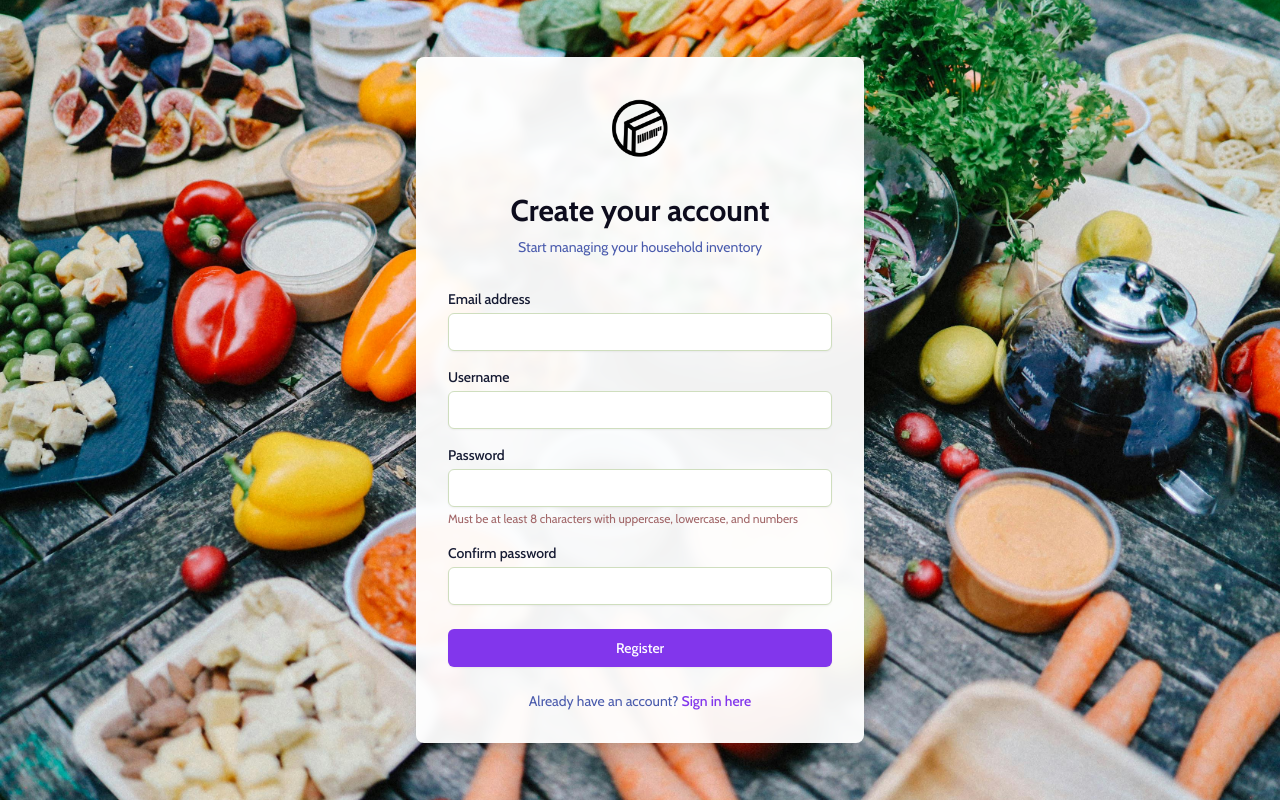
Test: Register page › rejects a too-short password
In the field labelled "Email address": (640, 332) [448,313,832,351], type "a@b.c"
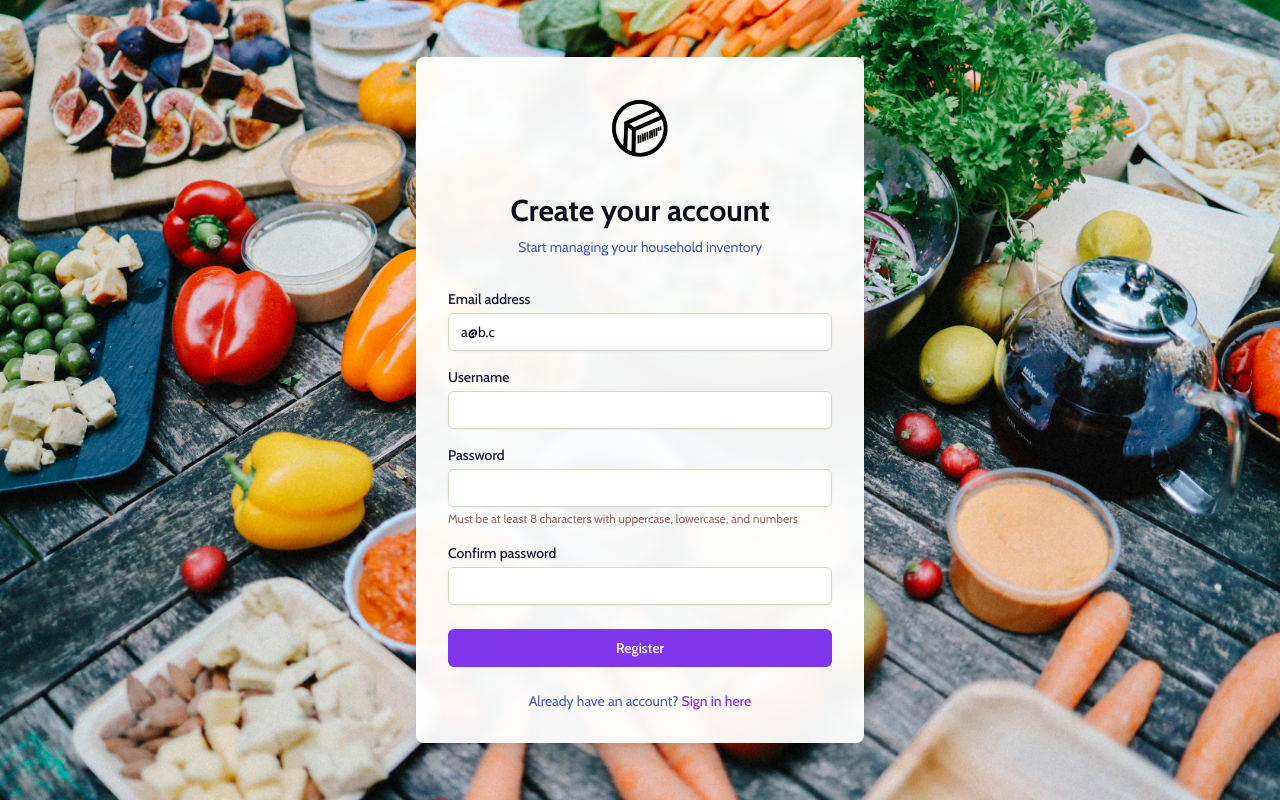
In the field labelled "Username": (640, 410) [448,391,832,429], type "alice"
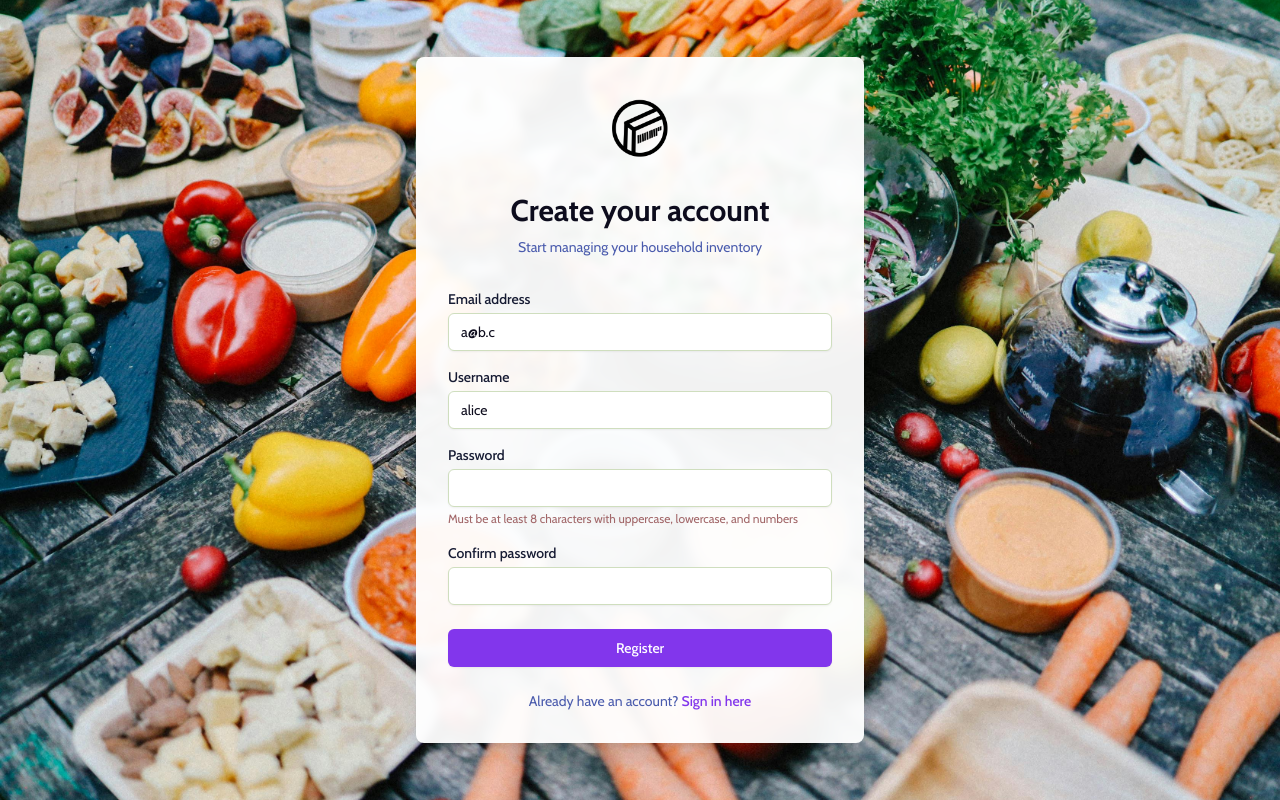
In the password field labelled "Password": (640, 488) [448,469,832,507], type "short"
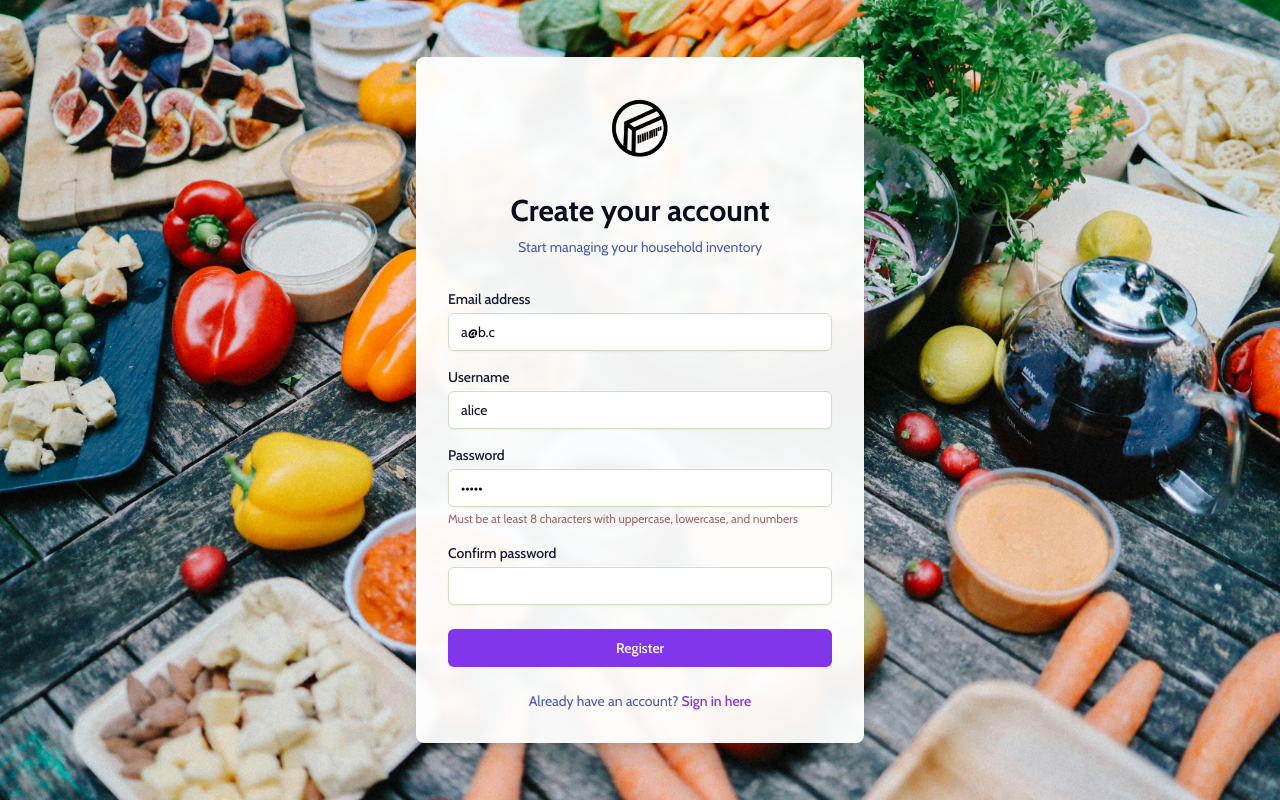
In the password field labelled "Confirm password": (640, 586) [448,567,832,605], type "short"
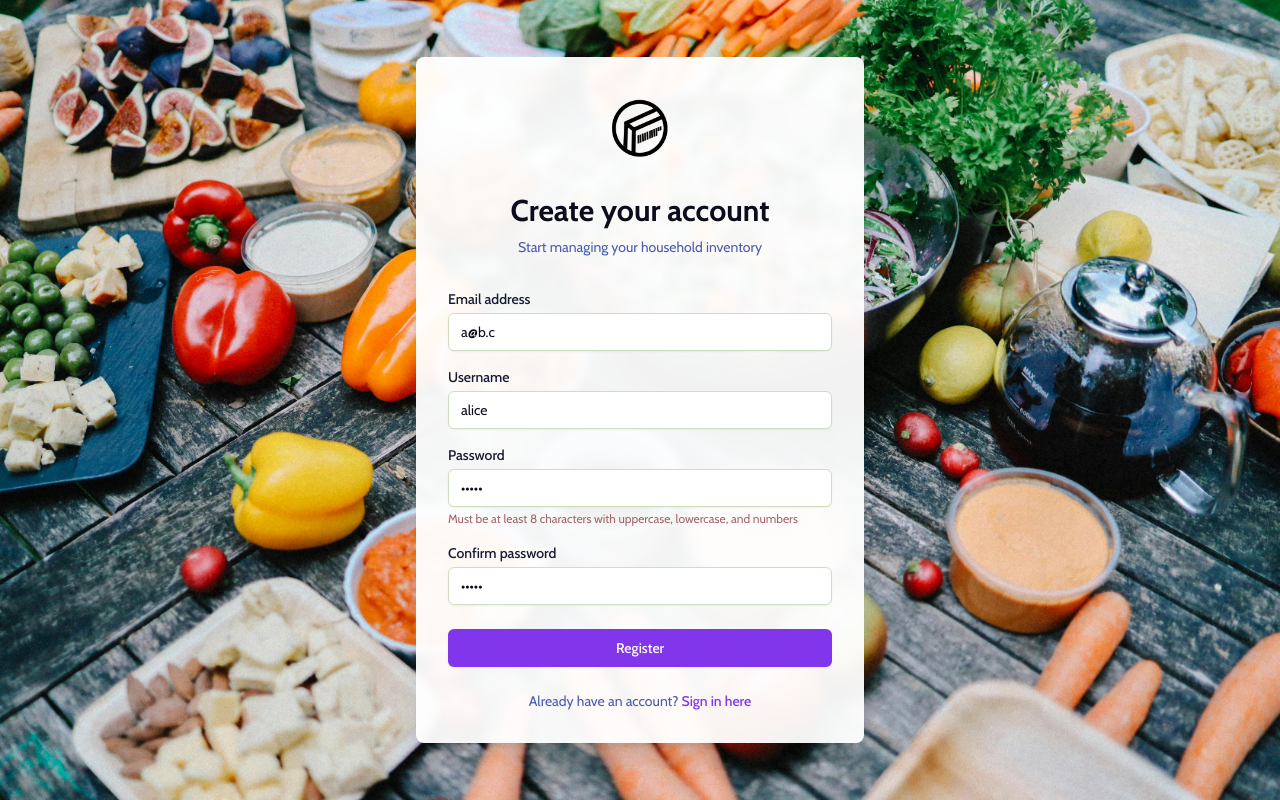
Click the button "Register": click(640, 648) [448,629,832,667]
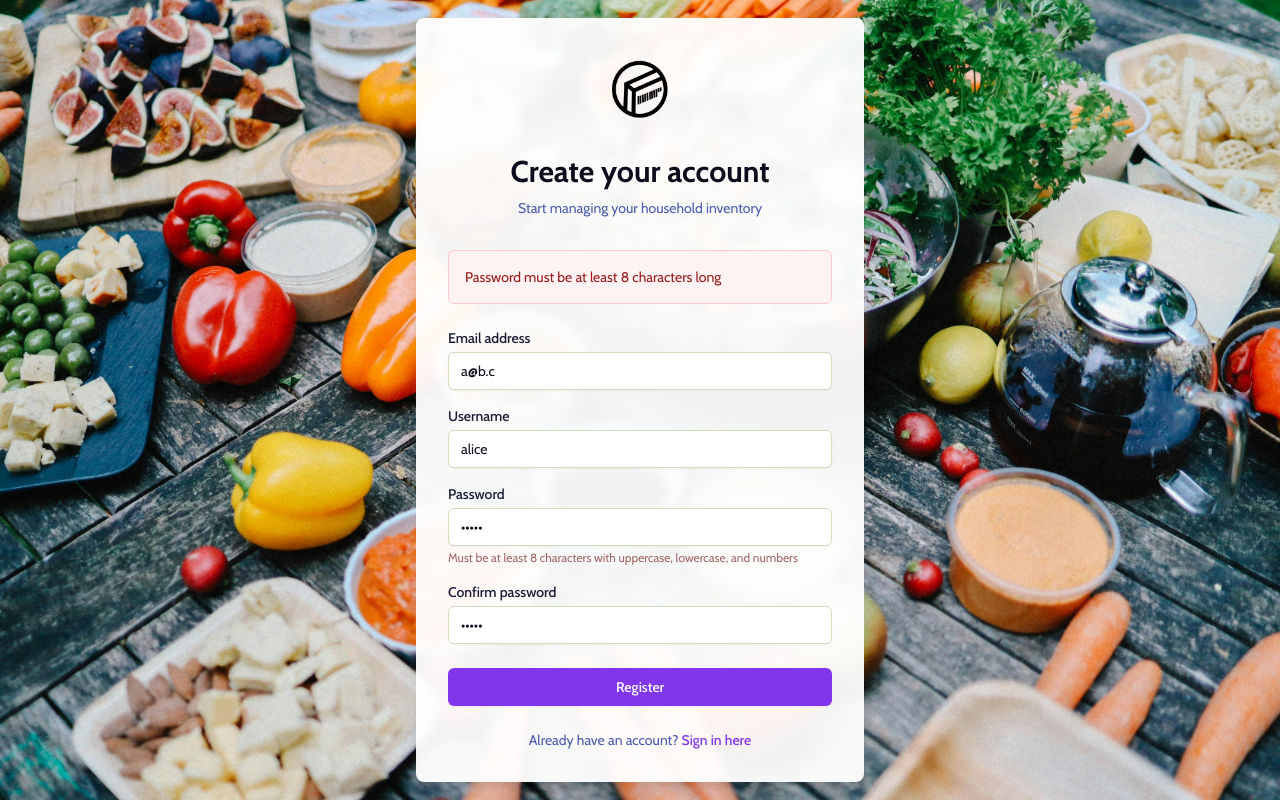
Expected: the text "Password must be at least 8 characters long" is shown, [465,268,721,286]
